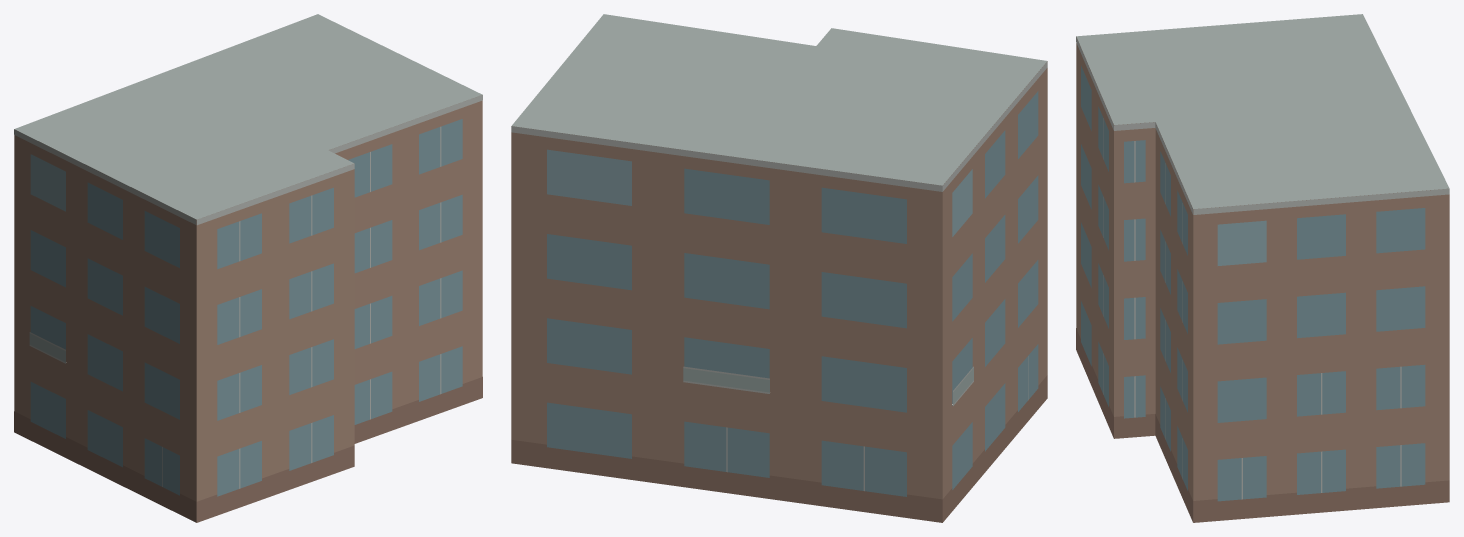
The model's file is survey-upis-32798553.glb.
3 views of the same model, side by side, from view 1: azimuth 30°, elevation 25°; view 2: azimuth 150°, elevation 25°; view 3: azimuth 270°, elevation 25° (orthographic). The views are drawn at different scales.
Parts seen in each view (by area): view 1: survey-upis-32798553.tmp; view 2: survey-upis-32798553.tmp; view 3: survey-upis-32798553.tmp.
Part boxes in pixels (bbox=[...]): survey-upis-32798553.tmp: bbox=[14, 14, 482, 522]; survey-upis-32798553.tmp: bbox=[511, 14, 1047, 522]; survey-upis-32798553.tmp: bbox=[1076, 14, 1449, 522].
Bounding box in the file's own units: 17.32 × 12.97 × 14.
